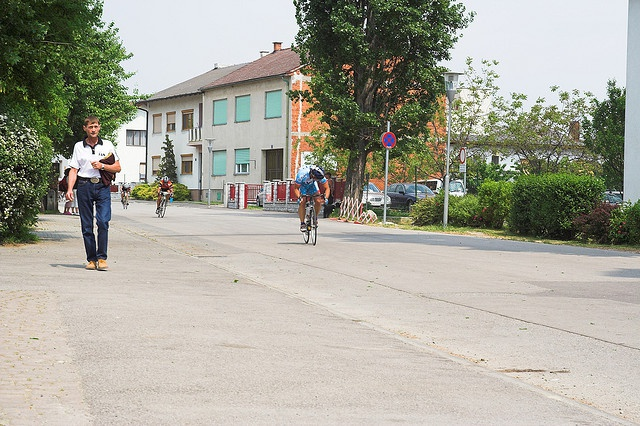non-vehicle: (299, 193, 326, 246), (157, 191, 173, 217), (122, 190, 128, 209)
